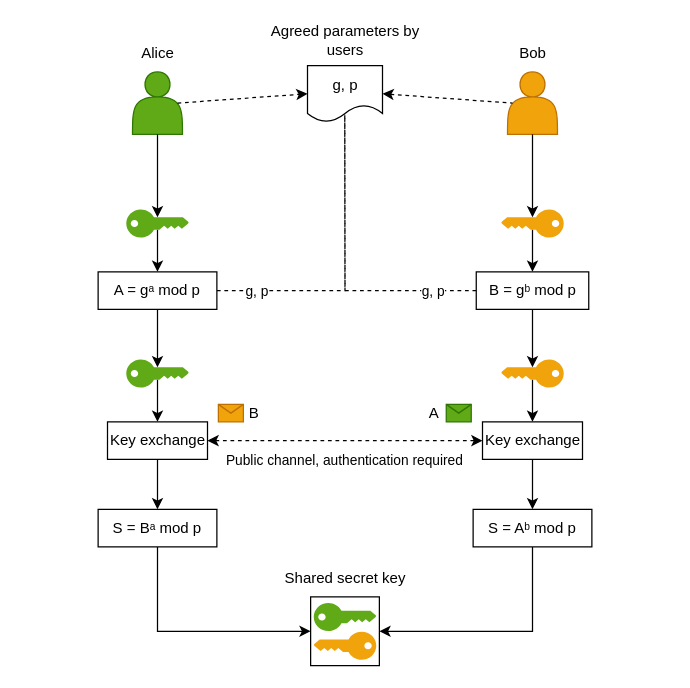
Some shapes in this 690 by 688 pixel diagram are drawn without their labels. The centre of each missing label's shape, as x and y in pixels:
Private key (a): the point at 157,223
Private key (b): the point at 532,223
Public key (A): the point at 157,373
Public key (B): the point at 532,373
